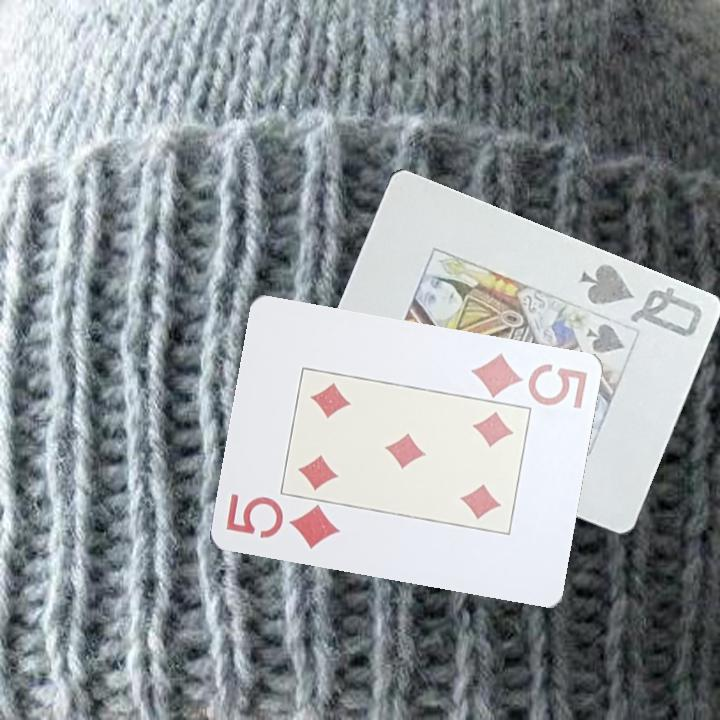5d: (467, 349, 590, 412), (221, 490, 343, 552)
Qs: (576, 260, 705, 341)
